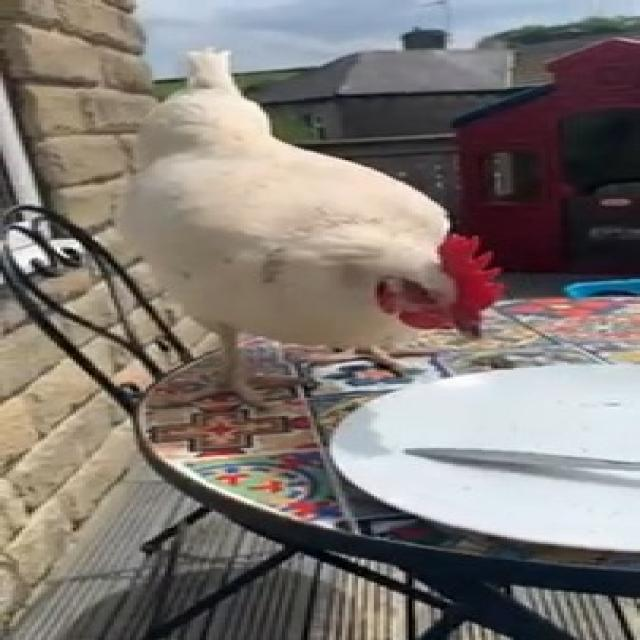pecking: (101, 38, 504, 398)
